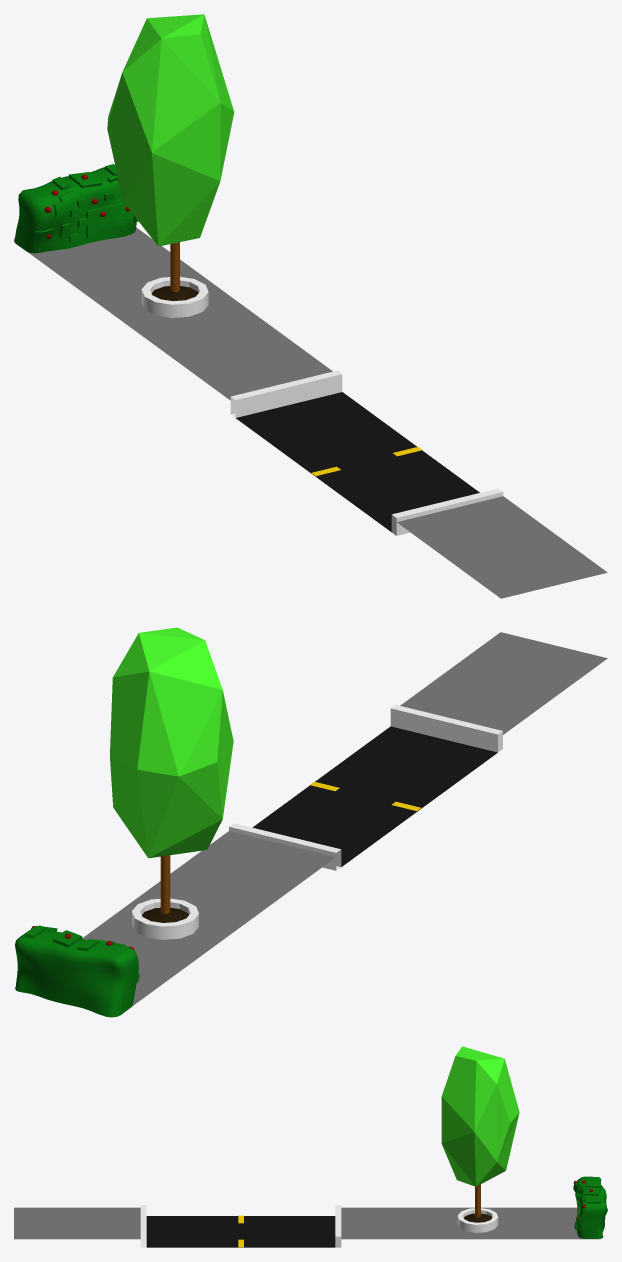
The model's file is Street03.FBX.
3 views of the same model, one above another, from view 1: azimuth 30°, elevation 25°; view 2: azimuth 150°, elevation 25°; view 3: azimuth 270°, elevation 25° (orthographic). The views are drawn at different scales.
Parts seen in each view (by area): view 1: GeoSphere005, Cylinder013, Plane011, Cylinder019, ChamferBox001, Street01, tree02; view 2: GeoSphere005, Plane011, Cylinder013, Cylinder019, ChamferBox001, Street01, tree02, Cylinder002; view 3: GeoSphere005, Cylinder013, Plane011, Cylinder019, ChamferBox001, tree02, Street01.
Part boxes in pixels (box(x1,y1,x2,y2)): GeoSphere005: box(107, 14, 234, 246); Cylinder013: box(28, 227, 332, 400); Plane011: box(236, 392, 479, 532); Cylinder019: box(397, 496, 607, 598); ChamferBox001: box(14, 164, 137, 253); Street01: box(230, 370, 503, 535); tree02: box(141, 276, 208, 317); GeoSphere005: box(110, 627, 233, 858); Plane011: box(252, 726, 497, 866); Cylinder013: box(14, 831, 335, 1006); Cylinder019: box(400, 632, 607, 734); ChamferBox001: box(15, 925, 139, 1017); Street01: box(229, 705, 502, 870); tree02: box(132, 898, 198, 939); Cylinder002: box(160, 855, 170, 913); GeoSphere005: box(441, 1046, 519, 1186); Cylinder013: box(341, 1207, 600, 1239); Plane011: box(146, 1216, 335, 1247); Cylinder019: box(14, 1207, 140, 1239); ChamferBox001: box(573, 1176, 607, 1238); tree02: box(457, 1208, 498, 1232); Street01: box(140, 1205, 341, 1247).
Size of the model in its own units: 17.28 by 42.42 by 127.
